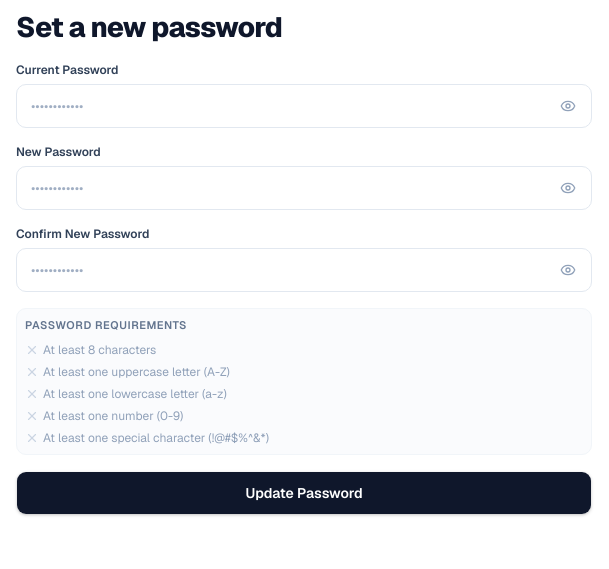
Test: ChangePasswordForm › shows an error when passwords do not match
Step 1. Type "OldPassword123!" into the password field labelled "Current Password" → coordinates (304, 106), box 16,84 -> 592,128
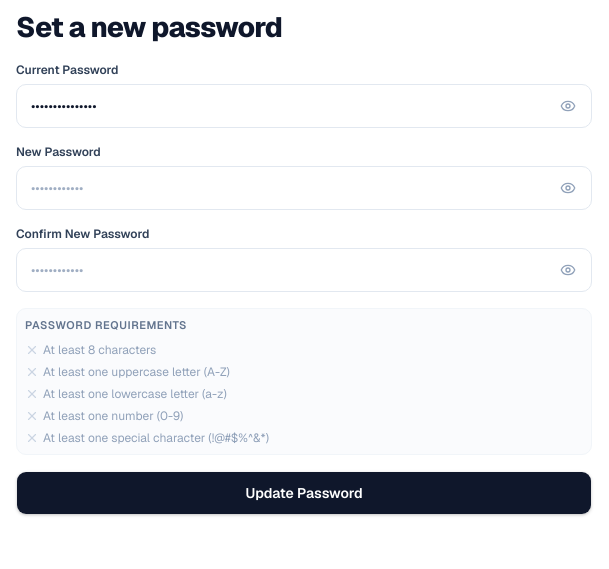
Step 2. Type "NewPassword123!" into the password field labelled "New Password" → coordinates (304, 188), box 16,166 -> 592,210
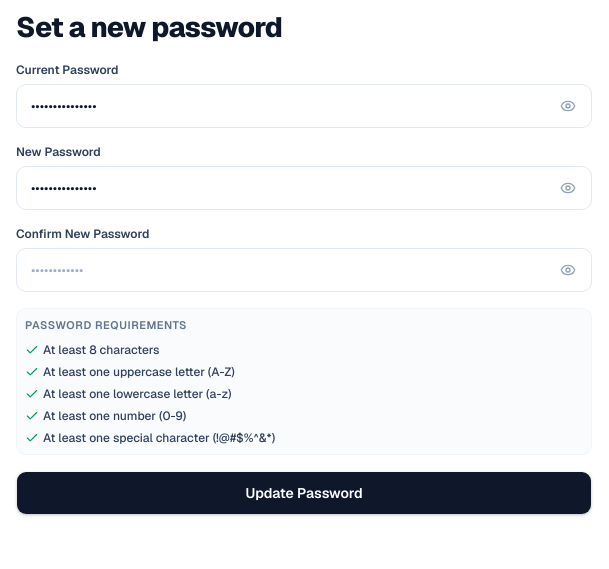
Step 3. Type "Different123!" into the password field labelled "Confirm New Password" → coordinates (304, 270), box 16,248 -> 592,292
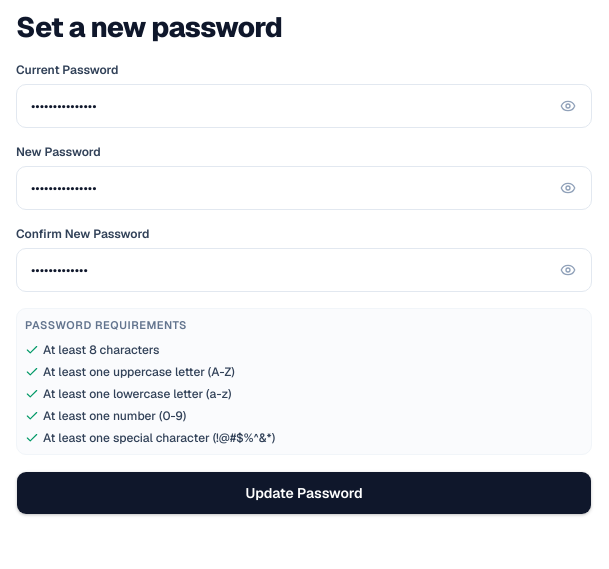
Step 4. Click the button "Update Password" → coordinates (304, 493), box 16,471 -> 592,515
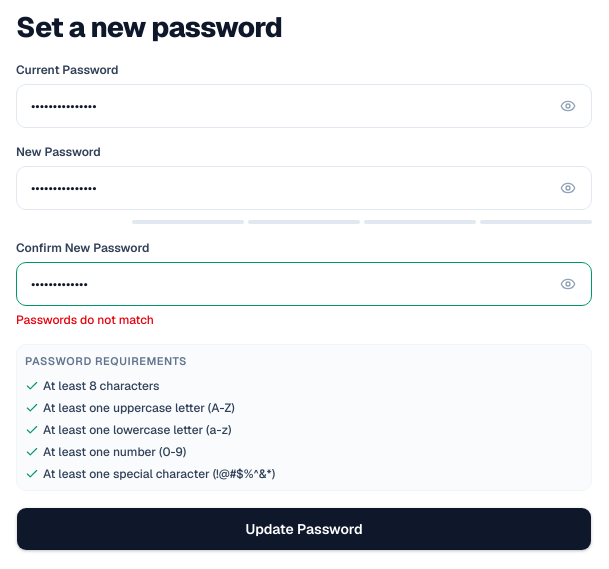
Result: the text "Passwords do not match" is shown at 16,312 -> 154,328
